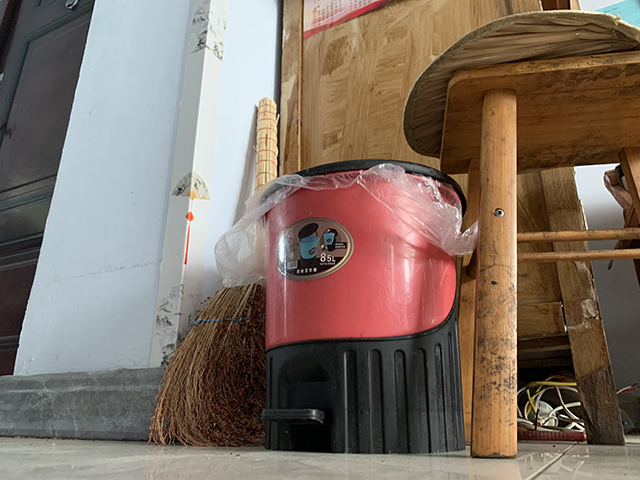cabinet: (281, 2, 619, 452)
stool: (448, 53, 640, 466)
trashcan: (255, 158, 469, 456)
wire: (518, 385, 581, 429)
